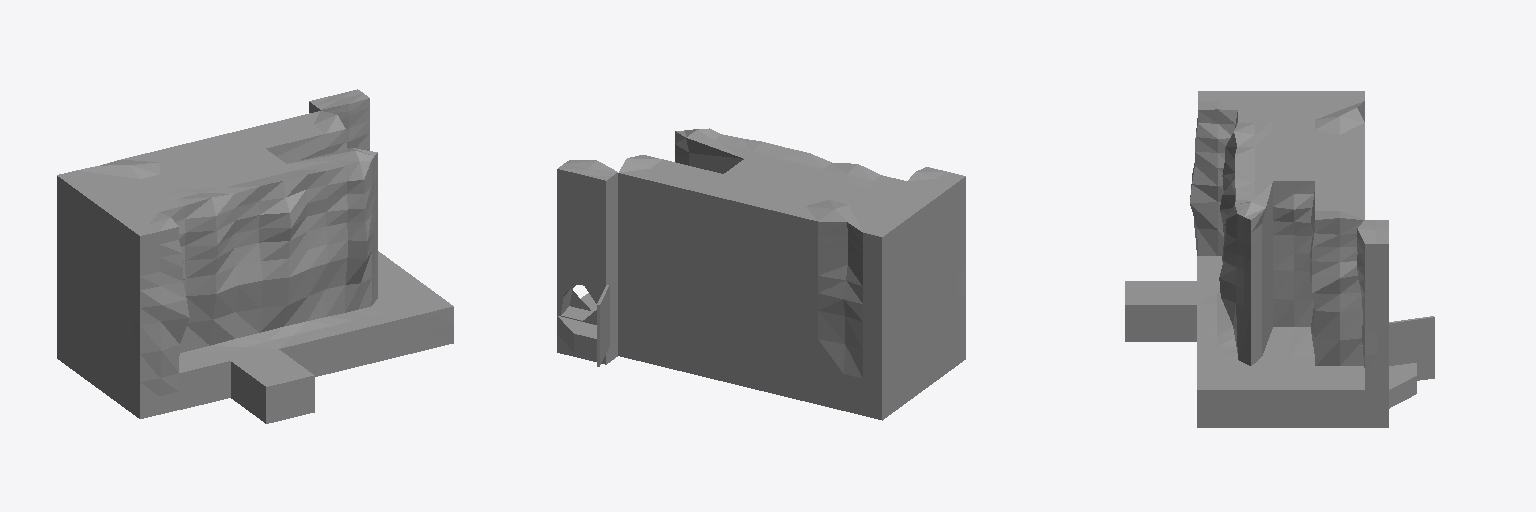
Rendered from Tutorial2.obj.
3 renders of one model, left to right at view 1: azimuth 30°, elevation 25°; view 2: azimuth 150°, elevation 25°; view 3: azimuth 270°, elevation 25°, orthographic.
Parts seen in each view (by area): view 1: Cube; view 2: Cube; view 3: Cube.
Part boxes in pixels (x1,y1,x2,y2): Cube: (57,89,453,423); Cube: (557,128,965,420); Cube: (1125,91,1434,427).
Size of the model in its own units: 17.75 by 10.28 by 15.17.